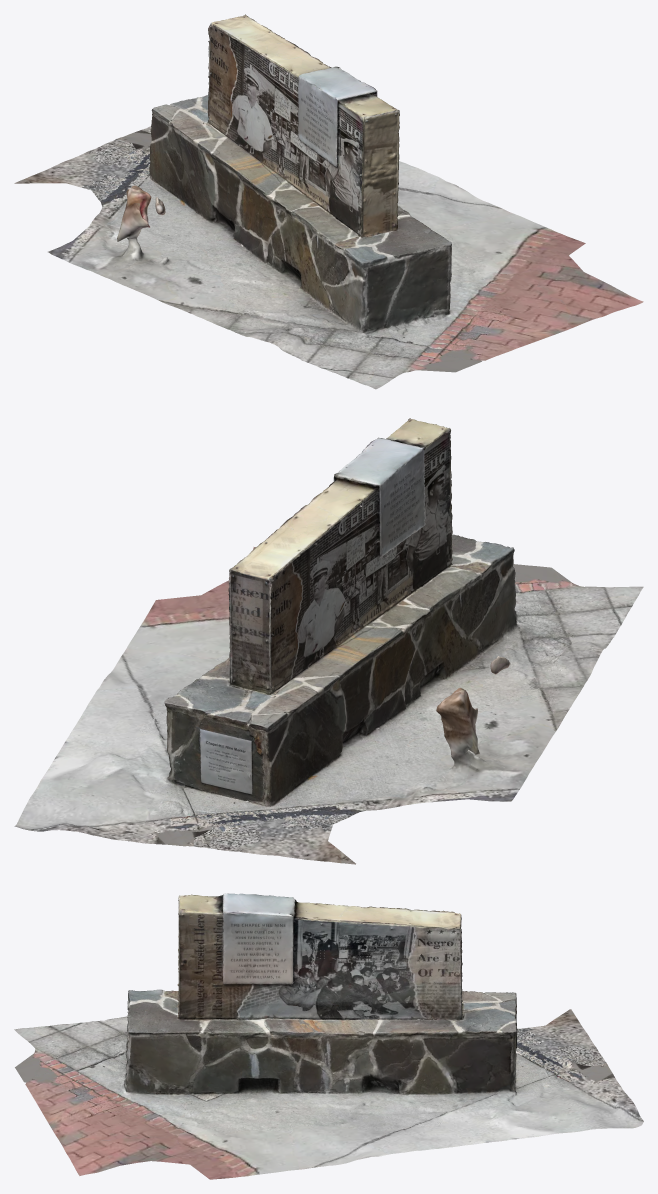
3 renders of one model, top to bottom at view 1: azimuth 30°, elevation 25°; view 2: azimuth 150°, elevation 25°; view 3: azimuth 270°, elevation 25°, orthographic. The views are drawn at different scales.
Bounding box in the file's own units: 2.87 × 1.3 × 4.06.
Materials: 1 (1 with a texture image).
